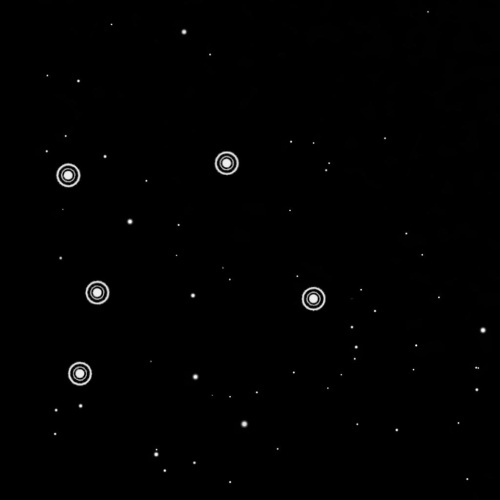libra: (45, 147, 331, 399)
